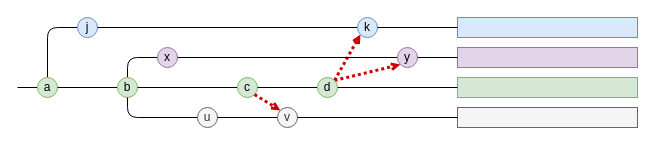
The diagram is 655 pixels wide and 145 high, and some of its shapes have lost their labels. Here are the shapes that lost their labels. From the top down, the box of each, then its label:
(456, 16, 638, 38): branch1
(456, 46, 638, 68): branch2
(456, 76, 638, 98): main
(456, 106, 638, 128): branch3
